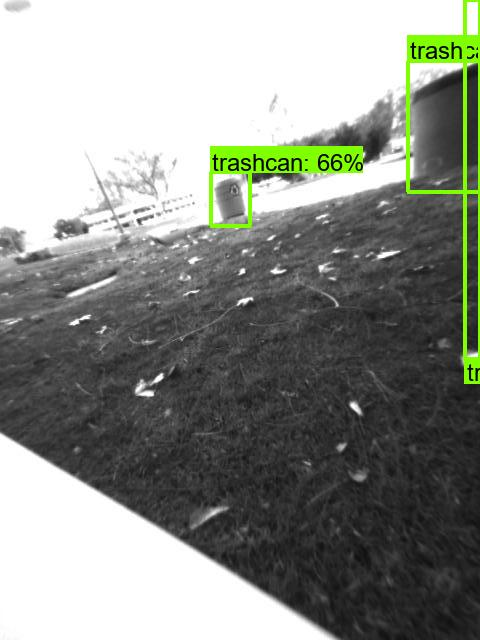trashcan: (209, 174, 251, 220)
